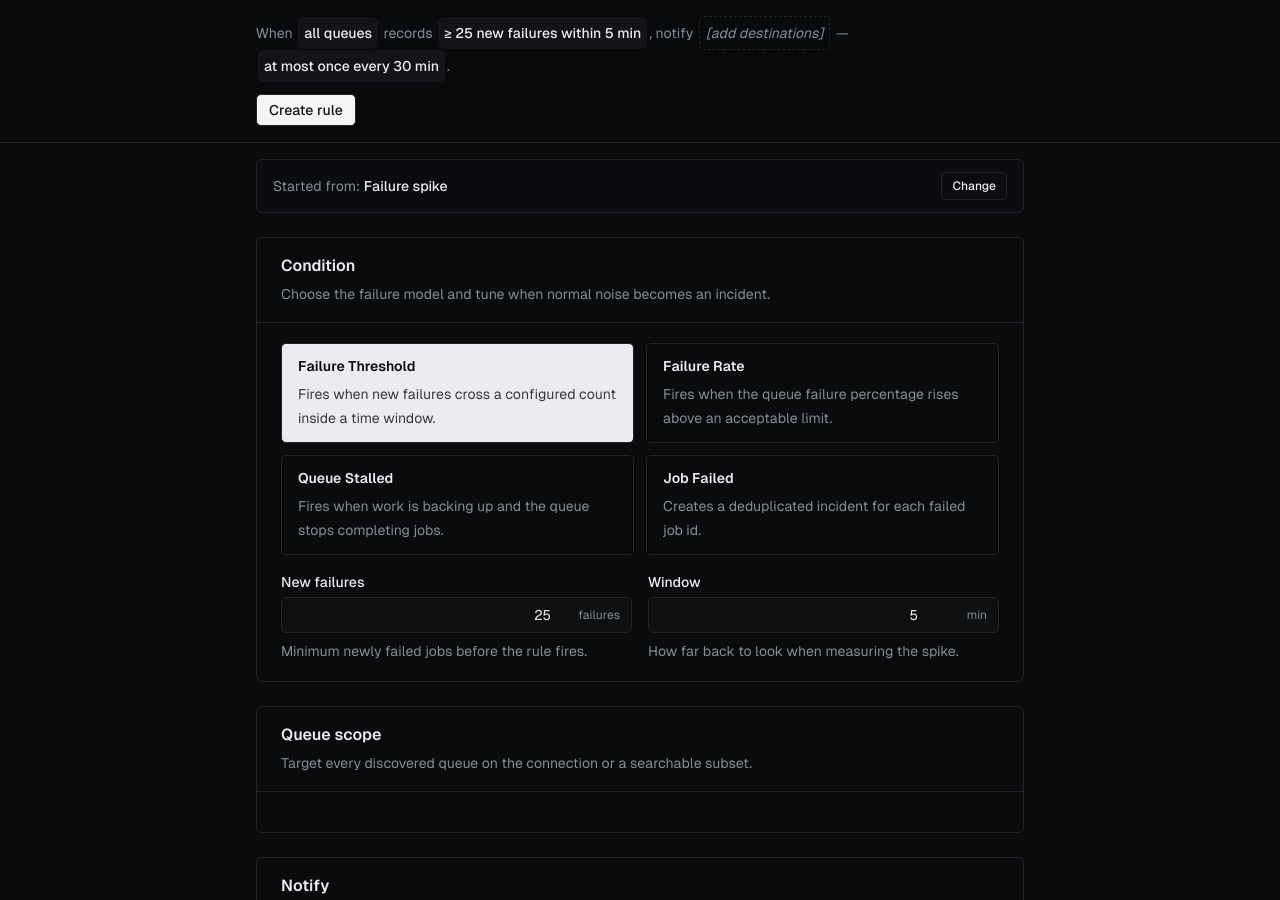
Test: AlertRuleBuilder › blocks save, shows inline errors, and marks the first errored field
What coordinates should you click on to do the following:
click the button "Create rule"
I would click on:
 (306, 110)
Its box is left=256, top=94, right=356, bottom=126.
(page scrolled)
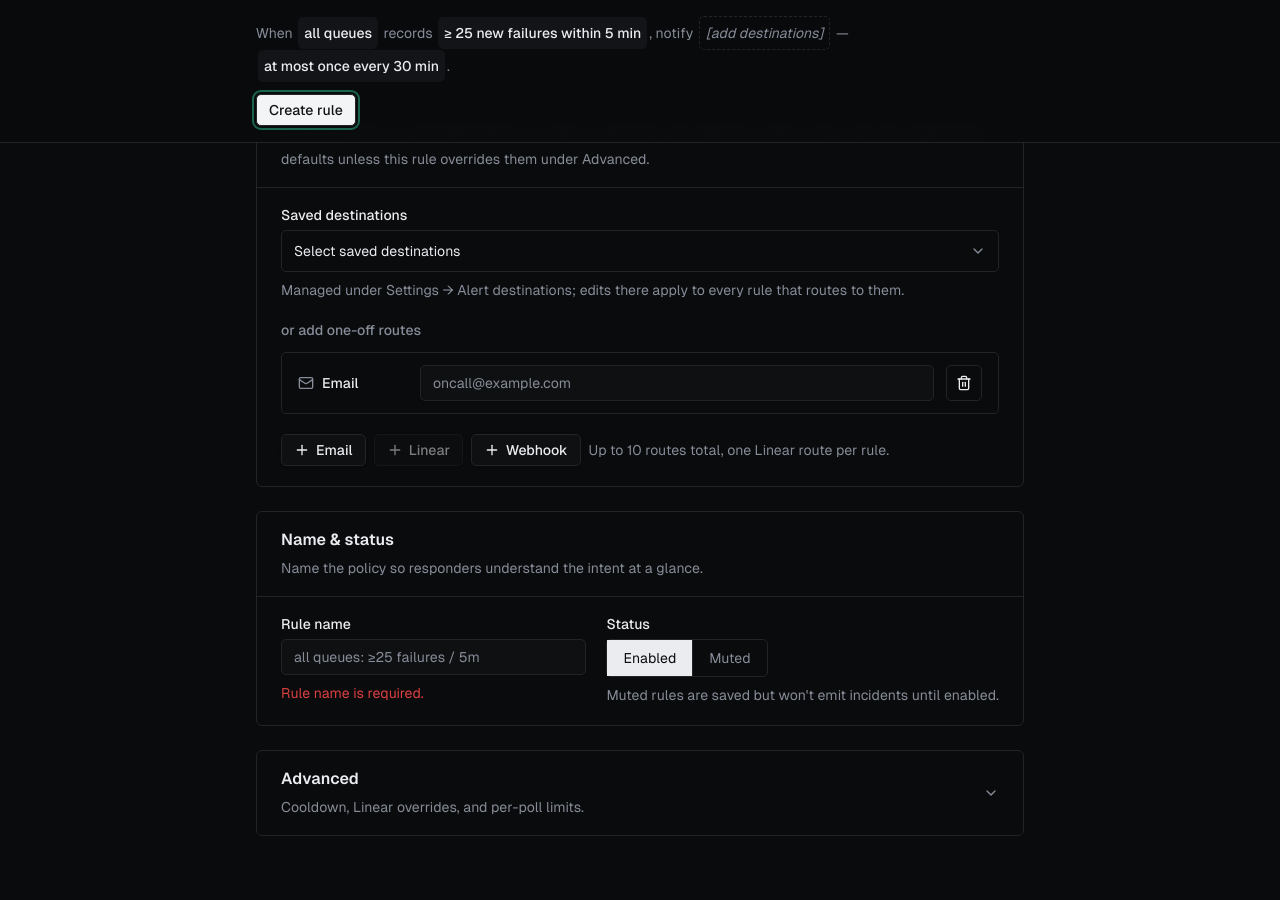
Check: the element showing "Rule name Rule name is required." is shown, box left=281, top=617, right=586, bottom=705
Check: the text "Rule name is required." is shown, box left=281, top=685, right=424, bottom=701
